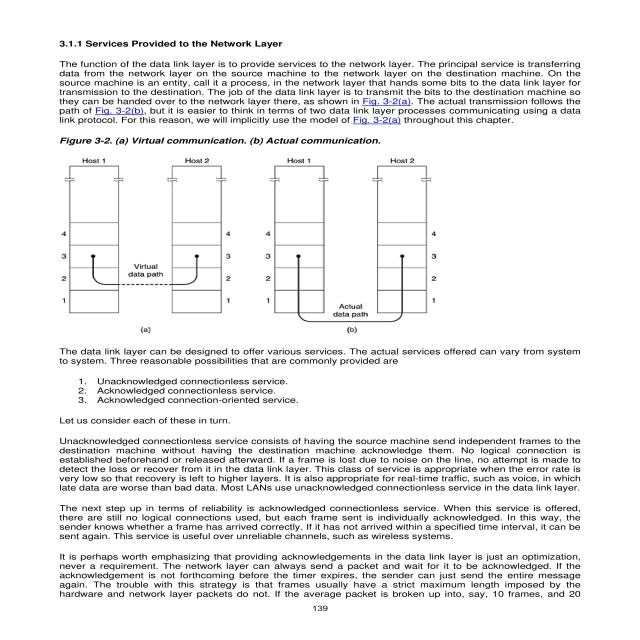diagram: (56, 128, 511, 342)
